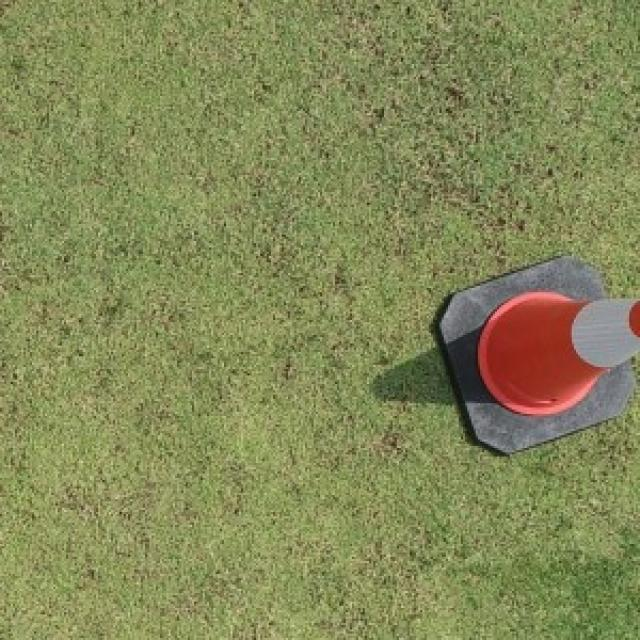Traffic Cone: (435, 252, 638, 456)
